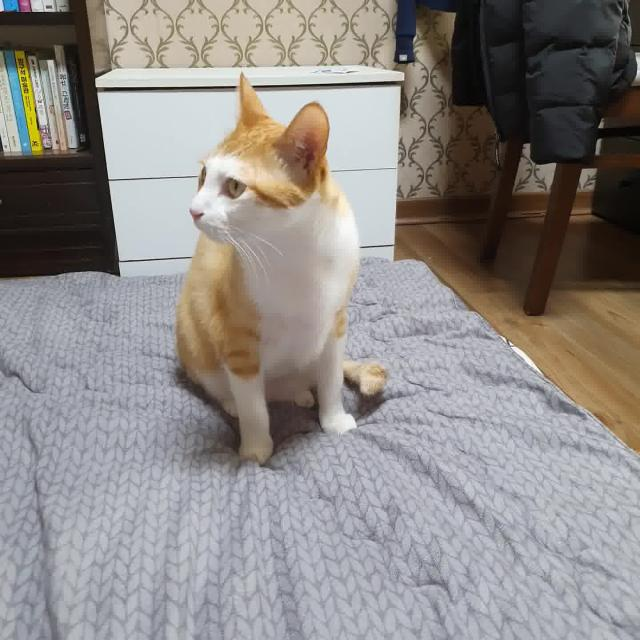cat: (167, 72, 395, 474)
